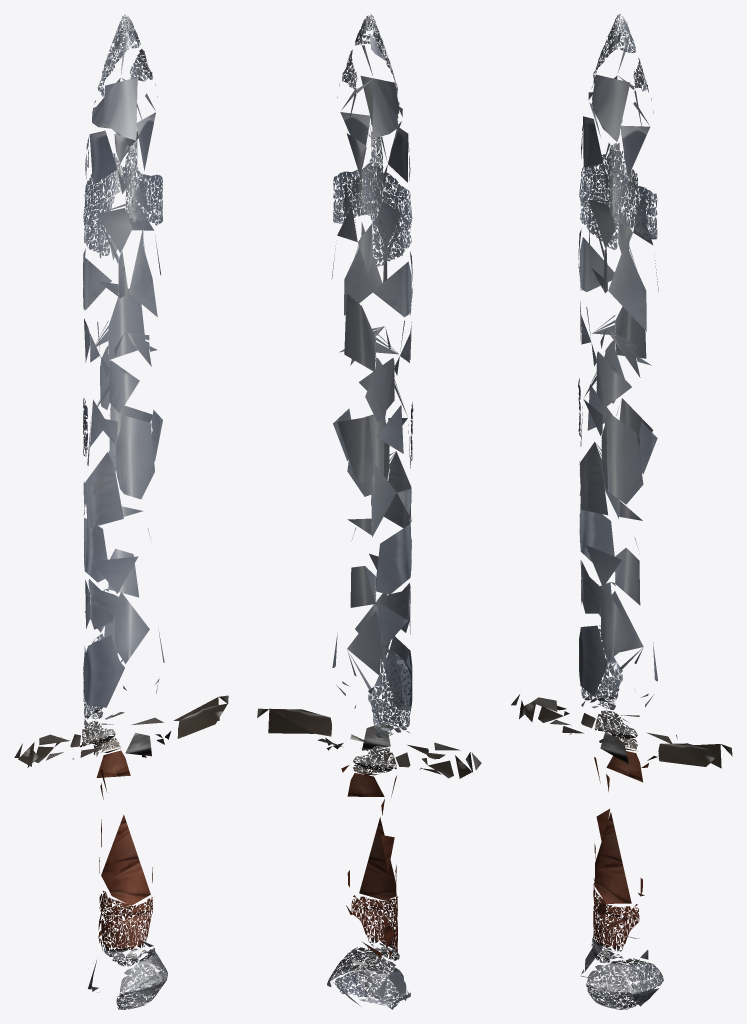
Rendered from sword_short.glb.
The picture shows the model from 3 angles, left to right: view 1: azimuth 30°, elevation 25°; view 2: azimuth 150°, elevation 25°; view 3: azimuth 330°, elevation 25°; orthographic projection.
Parts seen in each view (by area): view 1: node_0; view 2: node_0; view 3: node_0.
Boxes of the visible parts, x1,y1,x2,y2 form: node_0: (14,14,228,1009); node_0: (257,14,481,1009); node_0: (511,14,732,1009).
Bounding box in the file's own units: 0.1826 × 0.7991 × 0.0443.
1 material, 1 textured.
